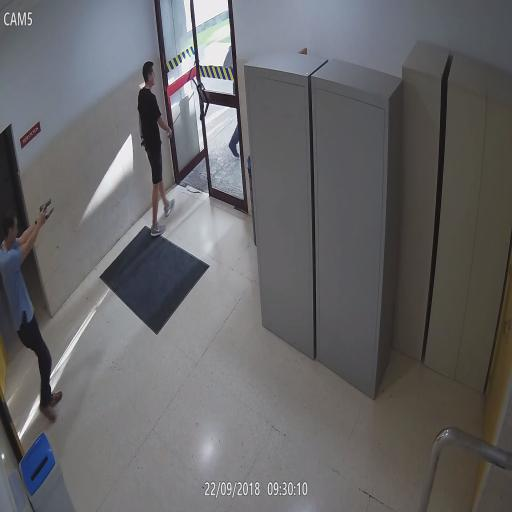Handgun: (39, 196, 52, 217), (140, 136, 147, 152)
